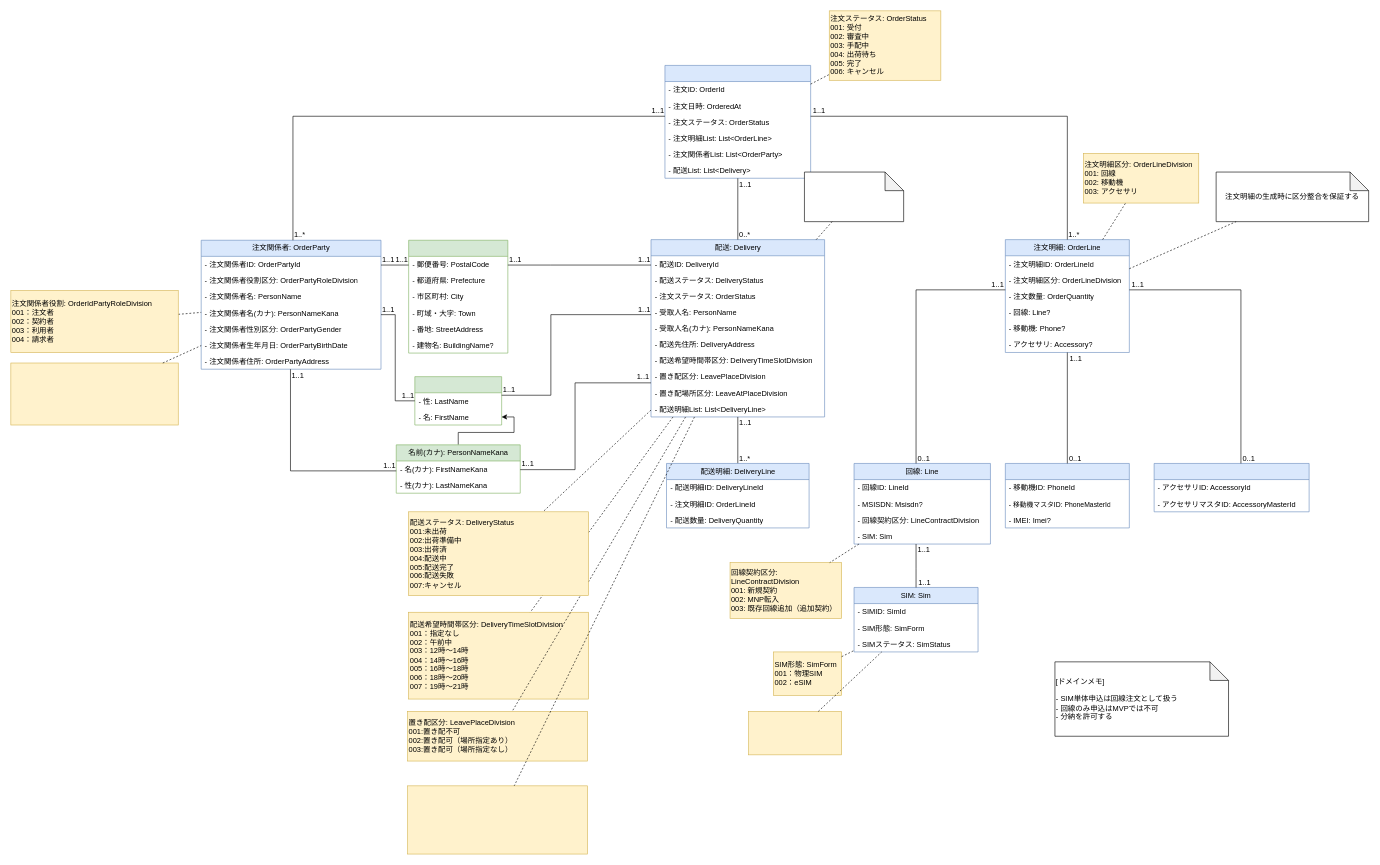
Some shapes in this 1380 by 865 pixel diagram are drawn without their labels. The box of each missing label's shape, as (x1, y1, x2, y2) in pixels:
0件は配送不要注文を表す: (804, 171, 904, 222)
SIMステータス: SimStatus 001： 白SIM( 未割当 ) 002： 黒SIM( 割当済 ): (748, 711, 842, 755)
アクセサリ: Accessory: (1154, 463, 1309, 512)
住所: Address: (408, 240, 508, 353)
名前 : PersonName: (414, 376, 502, 425)
注文 : Order <<AR>>: (664, 65, 811, 178)
注文関係者性別区分: OrderPartyGenderDivision 001:男性 002:女性 003:その他 009:不明: (10, 362, 178, 425)
移動機: Phone: (1005, 463, 1129, 528)
置き配場所区分: LeaveAtPlaceDivision 001：玄関前 002：宅配ボックス 003：ガスメーターボックス 004：車庫 005：その他 ）: (407, 785, 587, 854)
